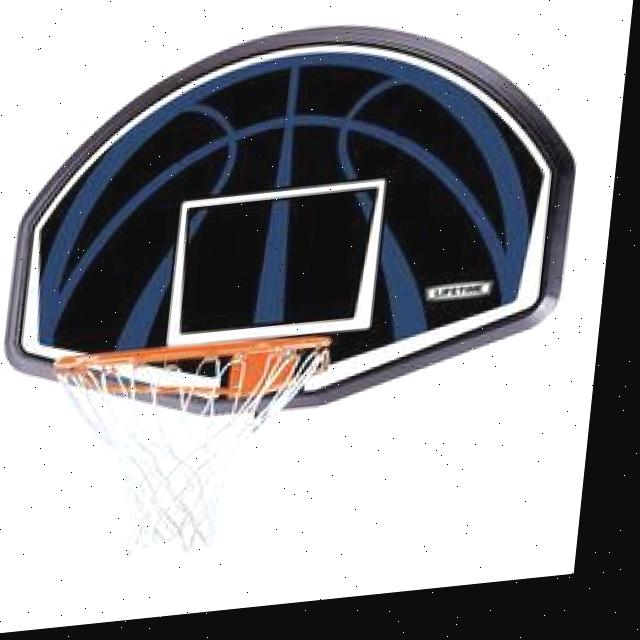hoop: (32, 329, 332, 569)
